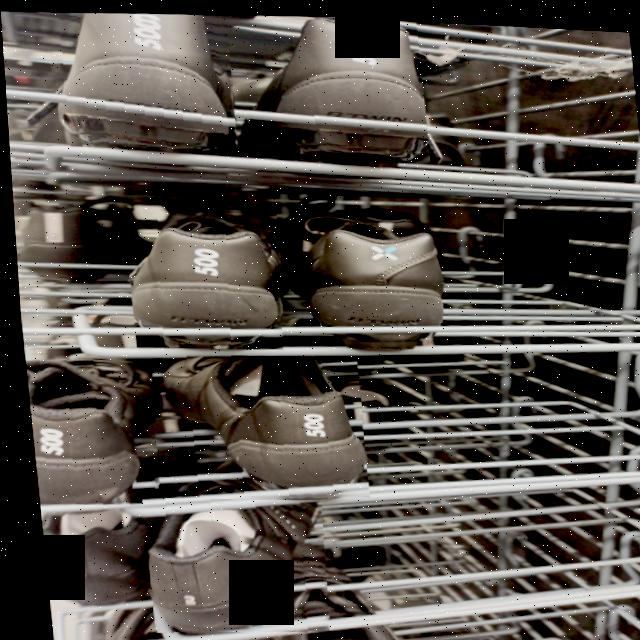shoe: (158, 345, 365, 504), (232, 9, 429, 163), (134, 490, 326, 638), (47, 5, 237, 152), (119, 200, 285, 352), (291, 207, 447, 351), (19, 351, 158, 508)
